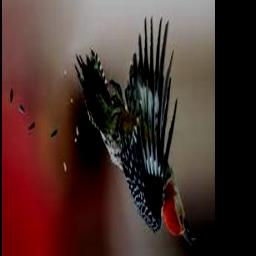Woodpecker: (75, 17, 197, 249)
